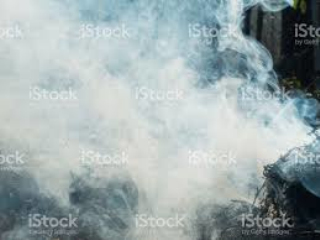smoke: (211, 3, 283, 95)
